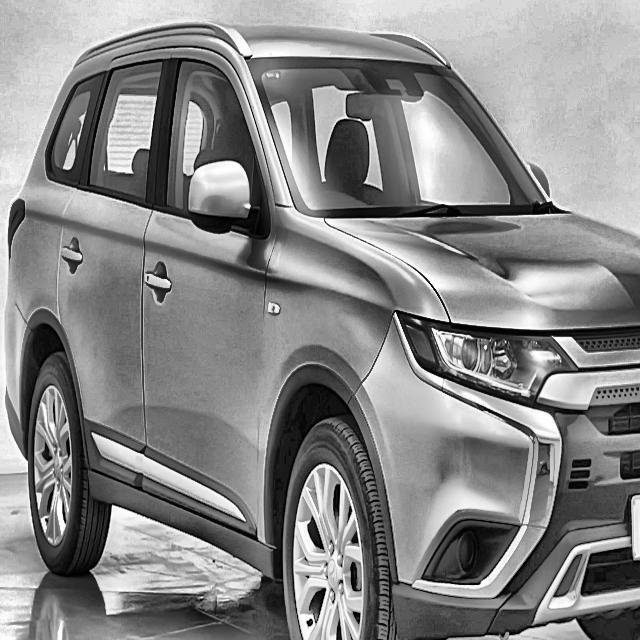light_vehicle: (2, 21, 640, 640)
